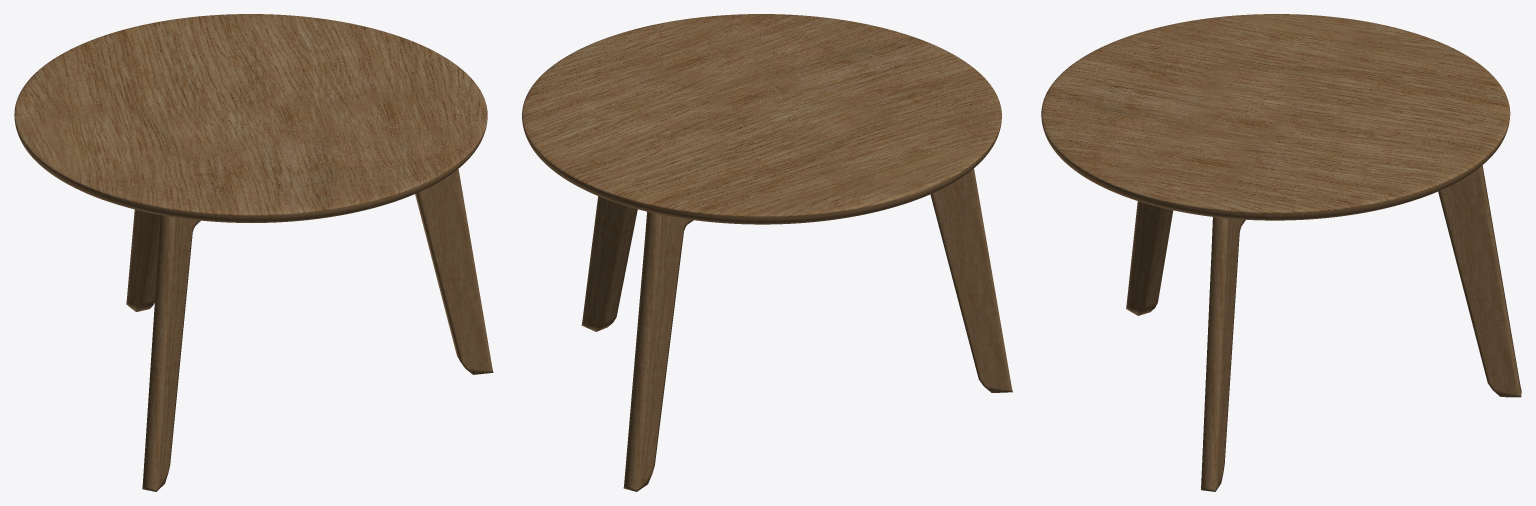
Rendered from home-table5.glb.
3 views of the same model, side by side, from view 1: azimuth 30°, elevation 25°; view 2: azimuth 150°, elevation 25°; view 3: azimuth 270°, elevation 25° (orthographic). The views are drawn at different scales.
Visible parts, largest first — view 1: Circle_1, Cube.002_3, Cube.009_0, Cube.001_2; view 2: Circle_1, Cube.001_2, Cube.002_3, Cube.009_0; view 3: Circle_1, Cube.001_2, Cube.009_0, Cube.002_3.
Boxes of the visible parts, x1=… form: Circle_1: x1=14, y1=14, x2=487, y2=222; Cube.002_3: x1=142, y1=215, x2=200, y2=491; Cube.009_0: x1=415, y1=169, x2=493, y2=374; Cube.001_2: x1=126, y1=209, x2=160, y2=311; Circle_1: x1=522, y1=14, x2=1001, y2=224; Cube.001_2: x1=623, y1=211, x2=693, y2=491; Cube.002_3: x1=930, y1=168, x2=1012, y2=392; Cube.009_0: x1=581, y1=196, x2=637, y2=331; Circle_1: x1=1041, y1=14, x2=1510, y2=220; Cube.001_2: x1=1438, y1=165, x2=1521, y2=397; Cube.009_0: x1=1201, y1=217, x2=1245, y2=491; Cube.002_3: x1=1126, y1=201, x2=1173, y2=315.
Bounding box in the file's own units: 0.7284 × 0.476 × 0.7401.
2 materials, 2 textured.
